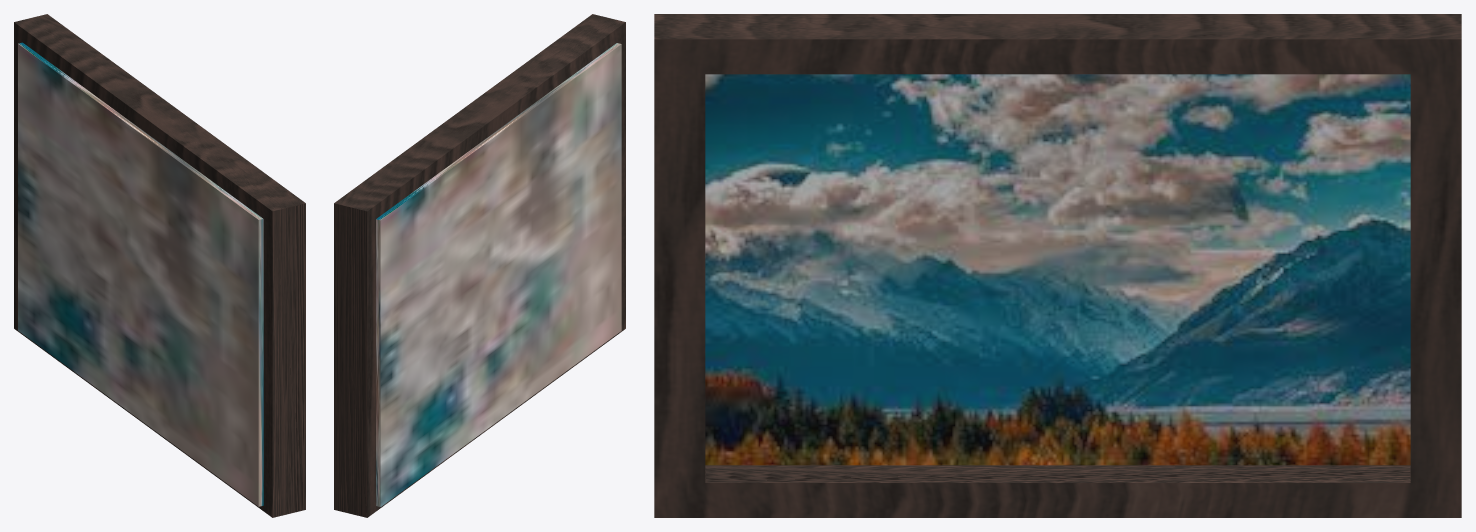
The picture shows the model from 3 angles, left to right: view 1: azimuth 30°, elevation 25°; view 2: azimuth 150°, elevation 25°; view 3: azimuth 270°, elevation 25°; orthographic projection. The views are drawn at different scales.
Parts seen in each view (by area): view 1: 액자3; view 2: 액자3; view 3: 액자3.
Part boxes in pixels (x1=…): 액자3: x1=14, y1=14, x2=305, y2=517; 액자3: x1=334, y1=14, x2=625, y2=517; 액자3: x1=654, y1=14, x2=1461, y2=517.
Bounding box in the file's own units: 20.92 × 161 × 246.
Materials: 2 (2 with a texture image).
